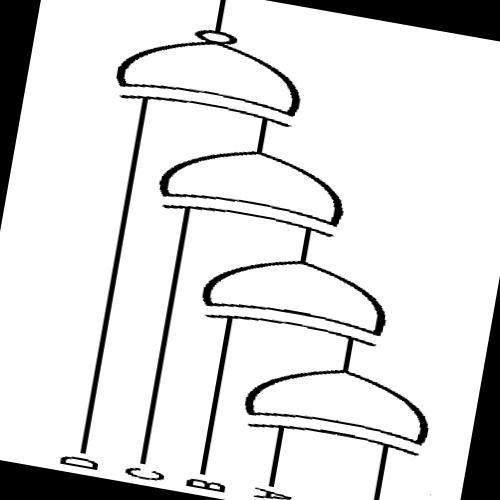xnor: (99, 5, 328, 136)
xor: (227, 345, 454, 467), (142, 128, 374, 246), (188, 239, 405, 354)
